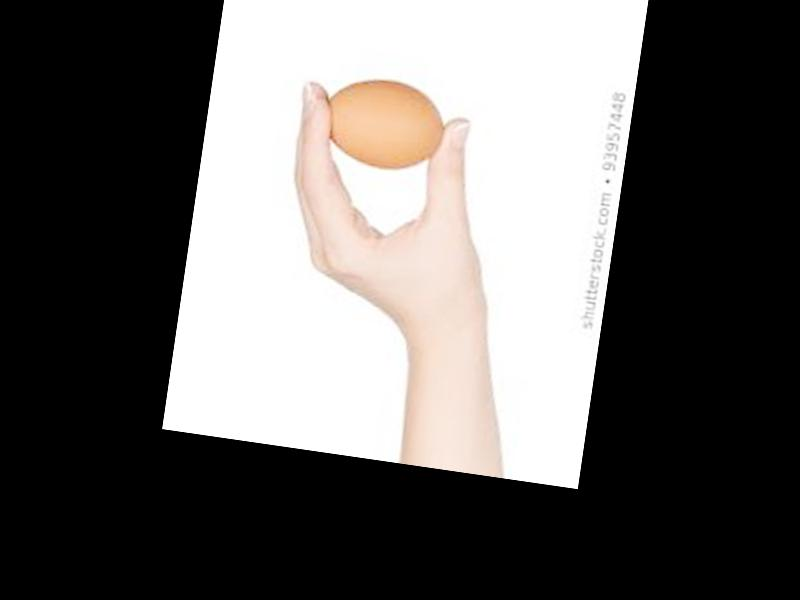Eggs: (313, 71, 450, 175)
